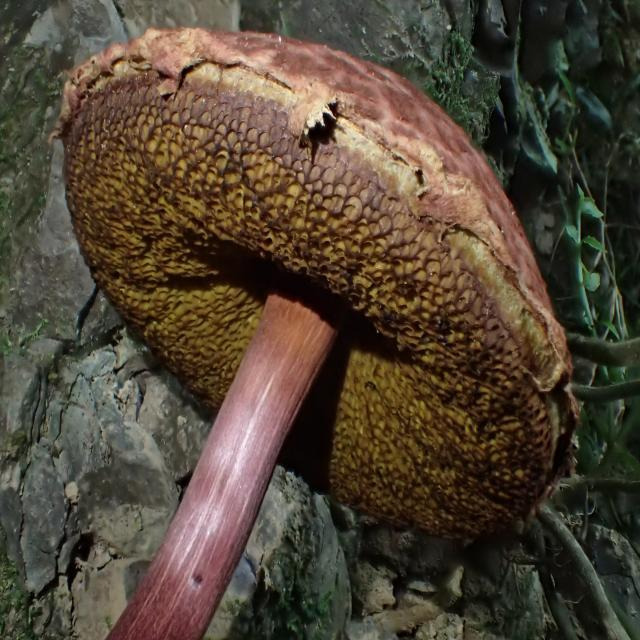Boletus: (59, 36, 577, 640)
